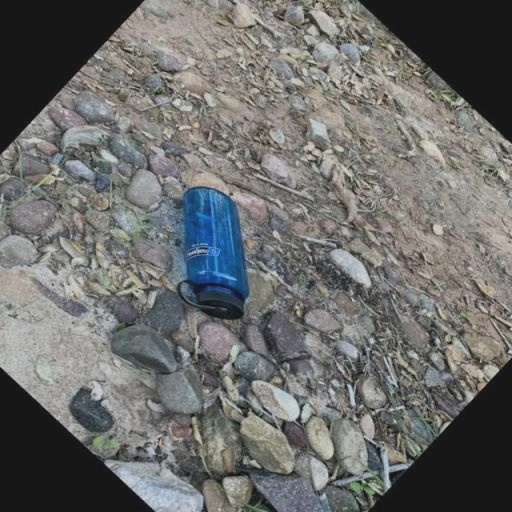bottle: (130, 173, 296, 339)
